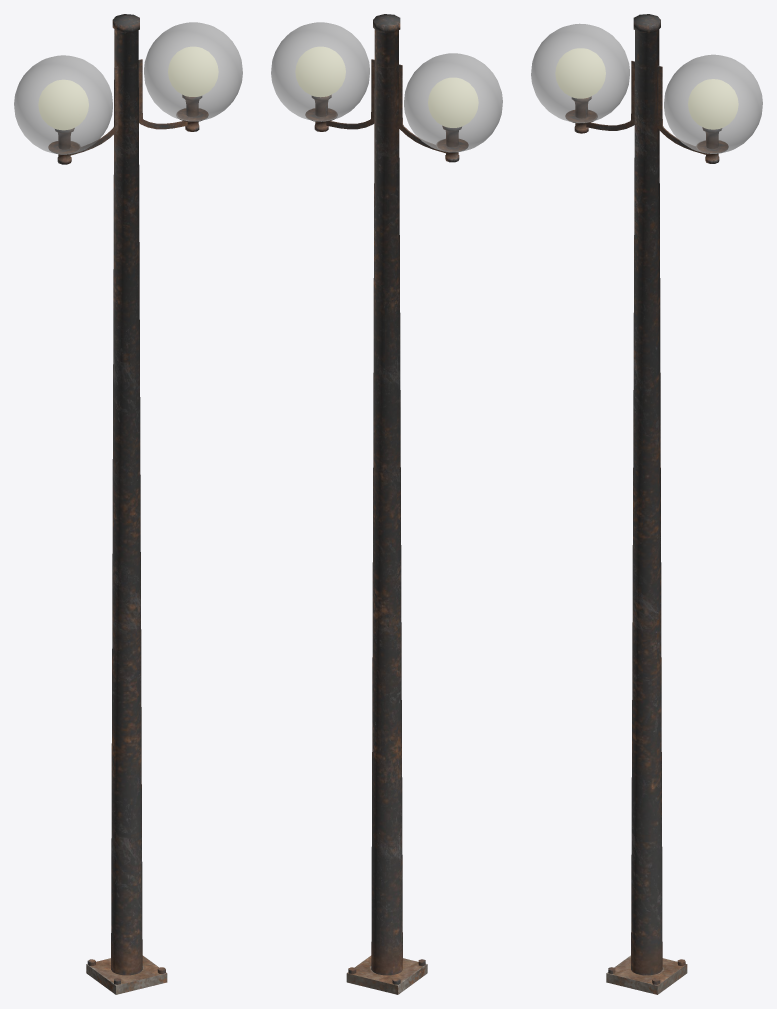
File: street_lamp_02.fbx
3 renders of one model, left to right at view 1: azimuth 30°, elevation 25°; view 2: azimuth 150°, elevation 25°; view 3: azimuth 330°, elevation 25°, orthographic.
Parts seen in each view (by area): view 1: street_lamp_02; view 2: street_lamp_02; view 3: street_lamp_02.
Part boxes in pixels (x1=…): street_lamp_02: x1=14, y1=14, x2=242, y2=994; street_lamp_02: x1=271, y1=14, x2=502, y2=994; street_lamp_02: x1=531, y1=14, x2=762, y2=994.
Size of the model in its own units: 59.16 by 250 by 24.13.
3 materials, 1 textured.
